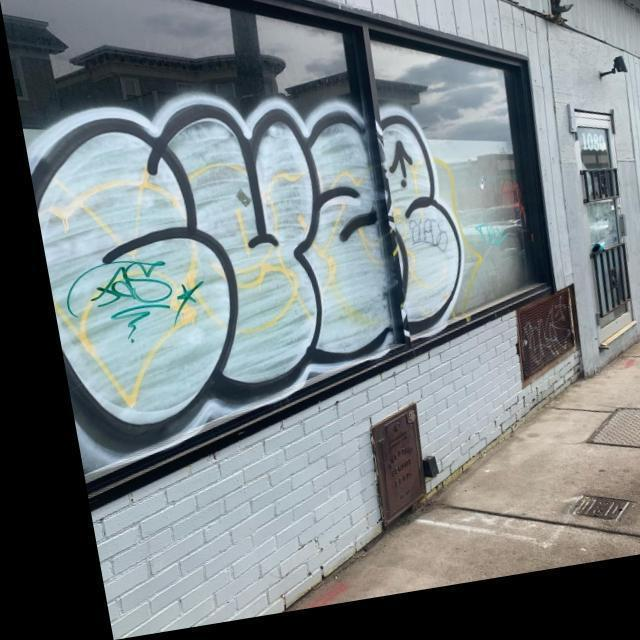nonspitting: (28, 86, 468, 458)
